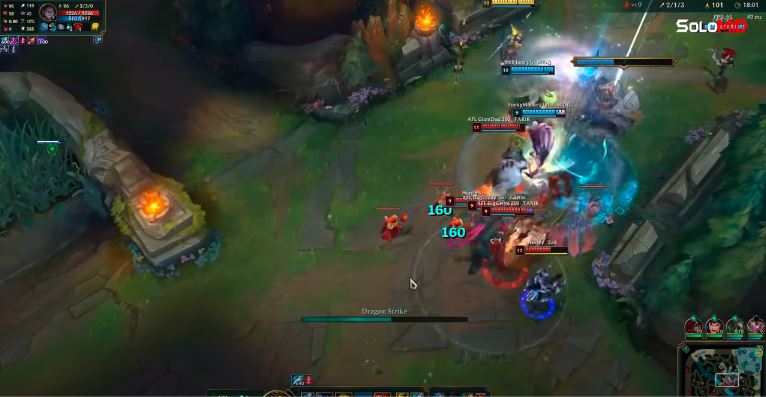bar: (443, 194, 516, 208), (465, 198, 529, 212), (497, 63, 558, 77), (513, 243, 571, 257), (480, 204, 537, 218), (470, 121, 528, 134), (510, 107, 569, 118), (693, 22, 751, 33), (480, 1, 539, 10)
